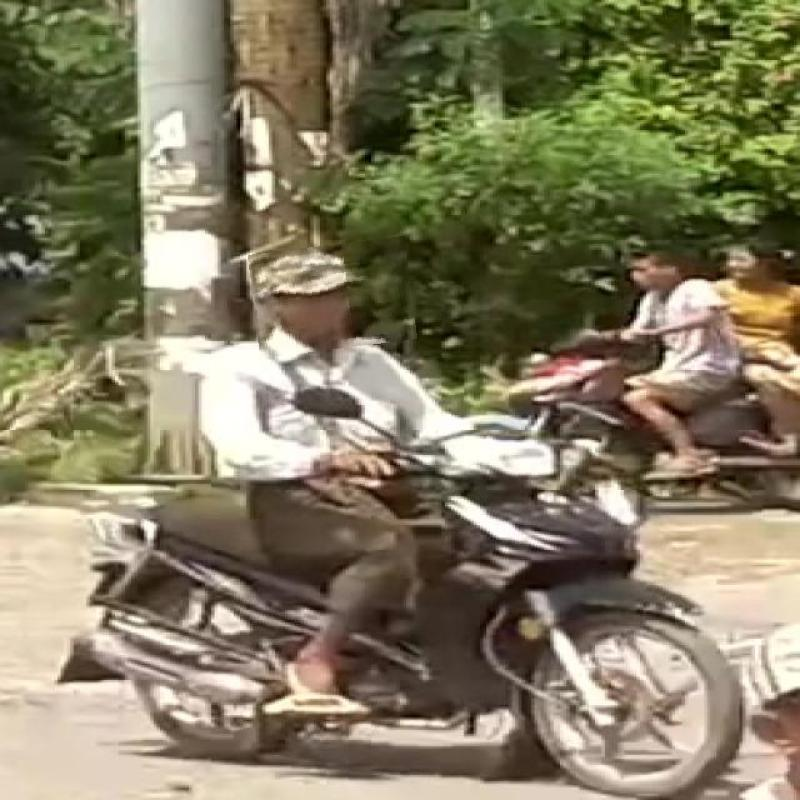nohelmet: (251, 241, 415, 354)
